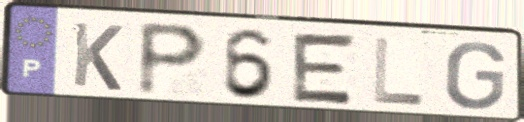6: (220, 26, 277, 102)
E: (288, 30, 361, 107)
G: (442, 40, 509, 112)
K: (69, 19, 126, 94)
L: (370, 35, 428, 108)
P: (134, 19, 211, 99)
